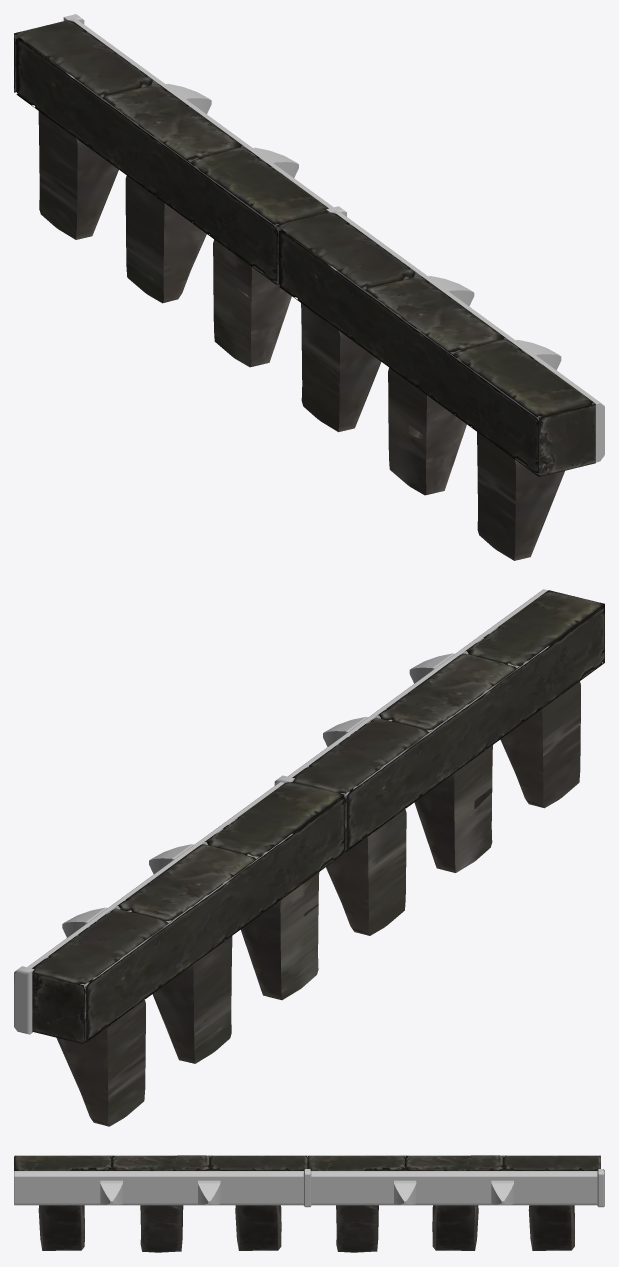
The picture shows the model from 3 angles, top to bottom: view 1: azimuth 30°, elevation 25°; view 2: azimuth 150°, elevation 25°; view 3: azimuth 270°, elevation 25°; orthographic projection. The views are drawn at different scales.
Parts seen in each view (by area): view 1: SM_Dowdun_Wall_Trim_8x1_01_LOD0; view 2: SM_Dowdun_Wall_Trim_8x1_01_LOD0; view 3: SM_Dowdun_Wall_Trim_8x1_01_LOD0.
Boxes of the visible parts, x1,y1,x2,y2 form: SM_Dowdun_Wall_Trim_8x1_01_LOD0: (14,14,604,560); SM_Dowdun_Wall_Trim_8x1_01_LOD0: (14,589,604,1126); SM_Dowdun_Wall_Trim_8x1_01_LOD0: (14,1155,604,1252).
Bounding box in the file's own units: 0.9557 × 1.42 × 8.05.
